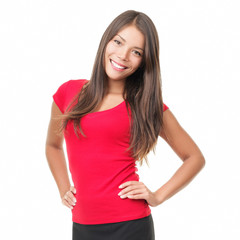teen: (94, 3, 164, 84)
